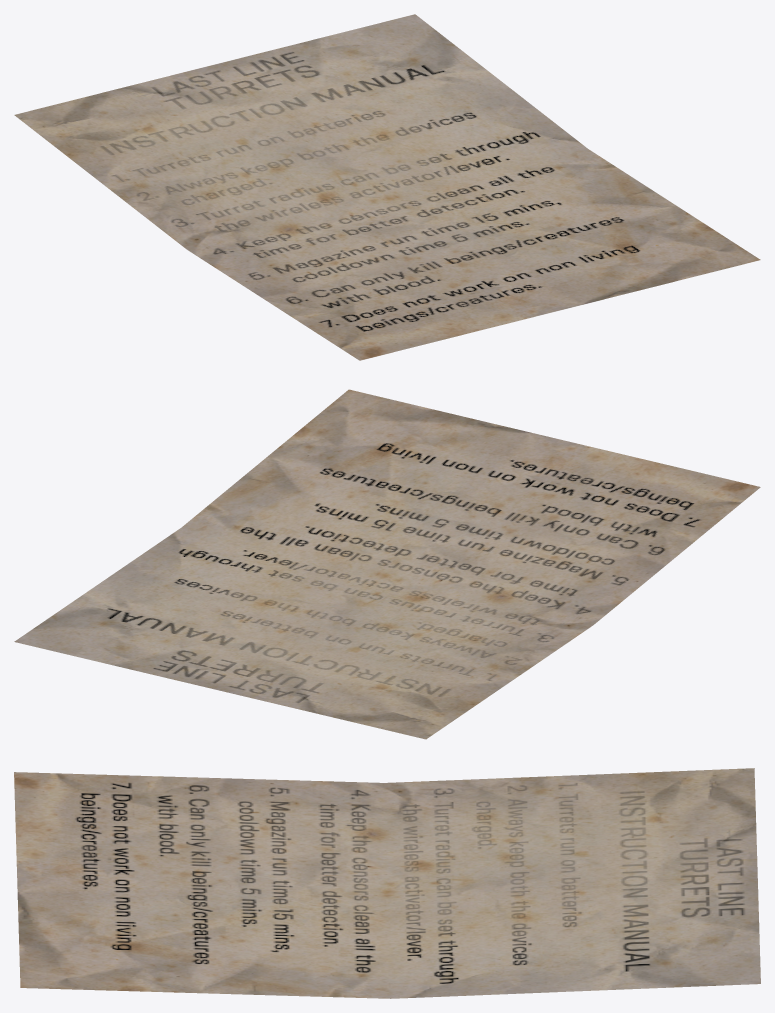
File: Manual.FBX
The picture shows the model from 3 angles, top to bottom: view 1: azimuth 30°, elevation 25°; view 2: azimuth 150°, elevation 25°; view 3: azimuth 270°, elevation 25°; orthographic projection. The views are drawn at different scales.
Parts seen in each view (by area): view 1: Manual; view 2: Manual; view 3: Manual.
Boxes of the visible parts, bbox=[...] form: Manual: bbox=[14, 14, 760, 360]; Manual: bbox=[14, 389, 760, 739]; Manual: bbox=[14, 768, 760, 998].
Bounding box in the file's own units: 27.22 × 0.742 × 39.09.
